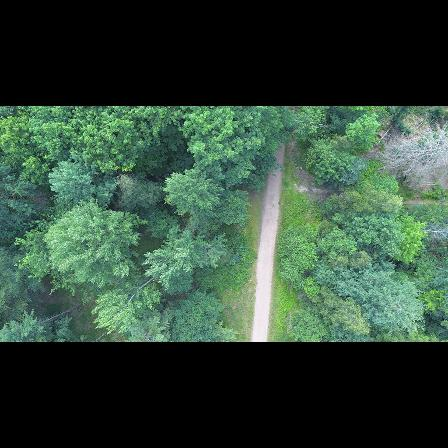Dead: (378, 130, 448, 172), (394, 162, 448, 194), (419, 221, 448, 241)
